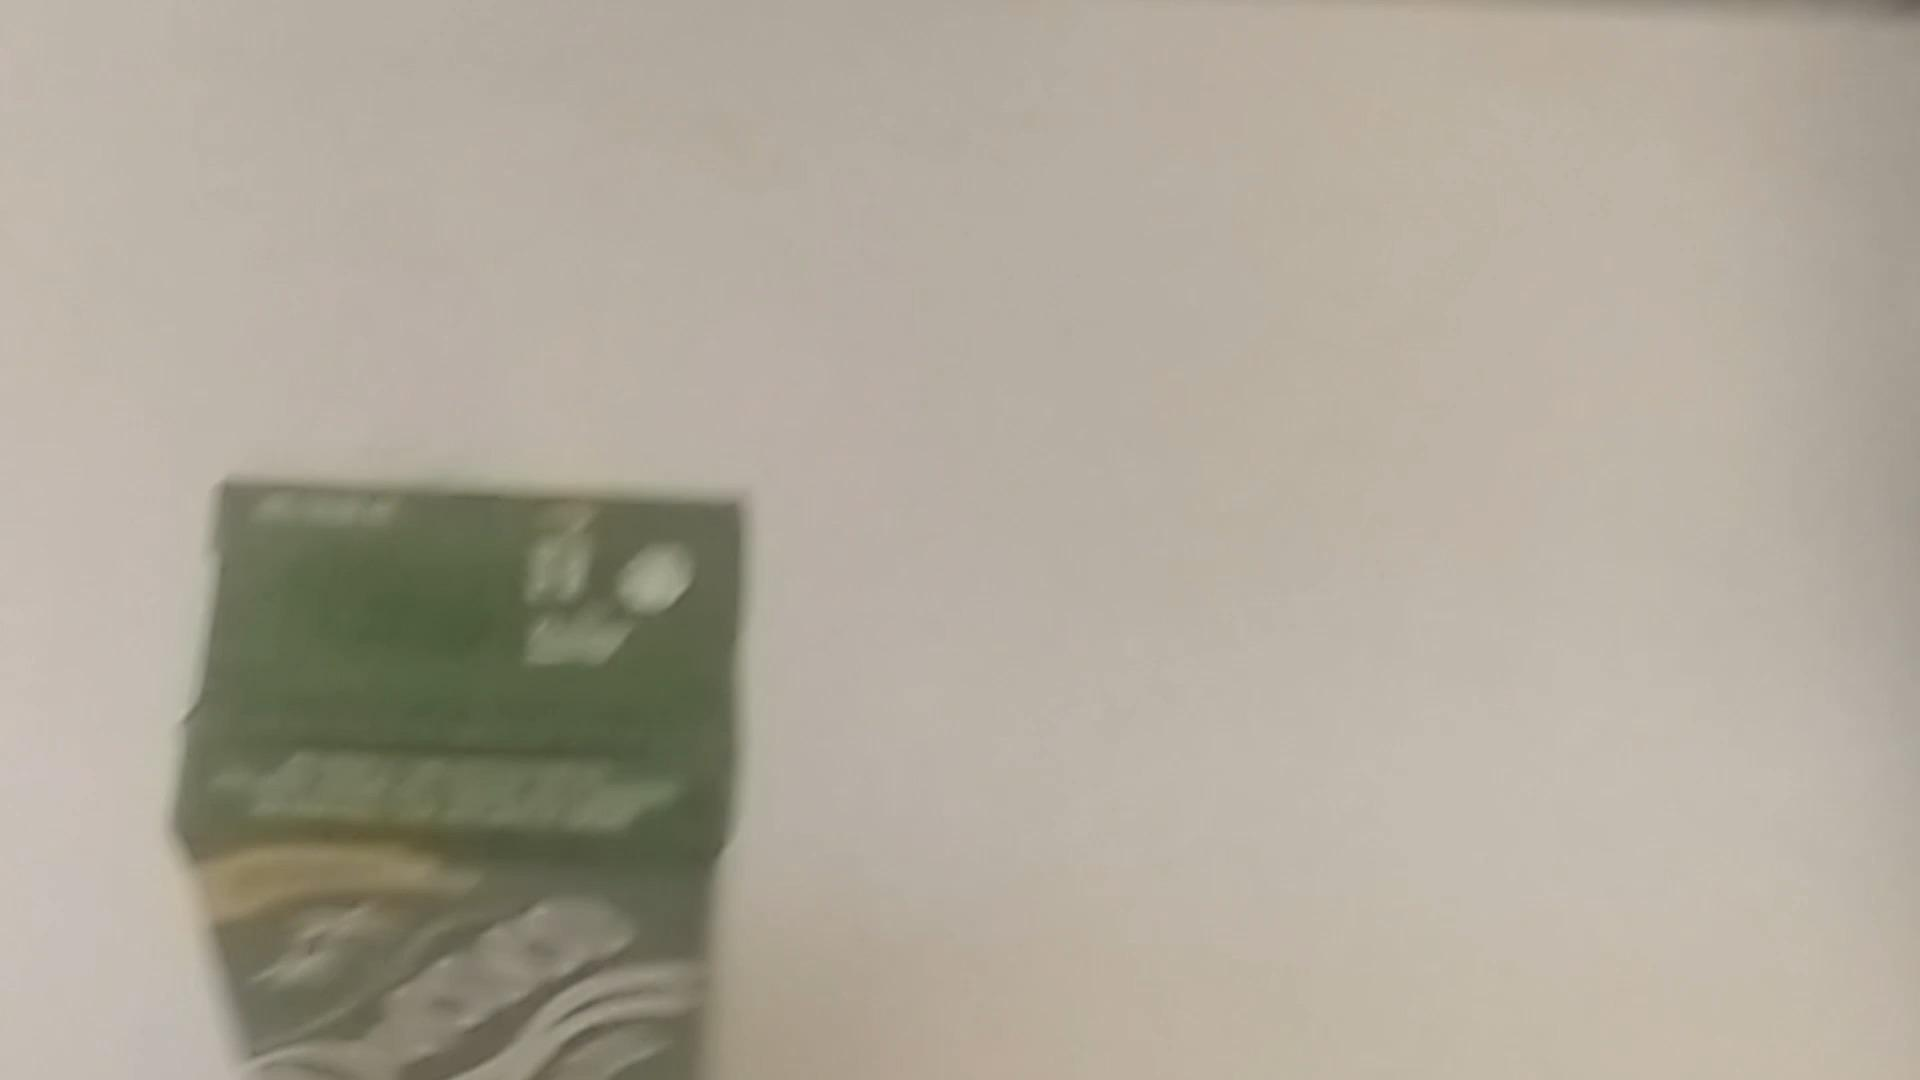coco: (195, 465, 742, 1080)
